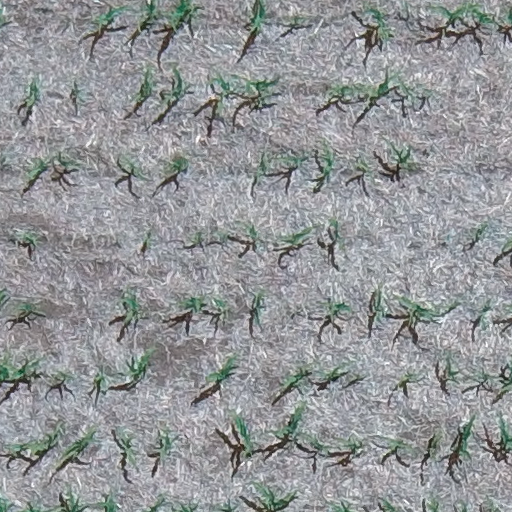planta: (5, 423, 64, 460), (52, 424, 97, 470), (204, 72, 241, 115), (393, 293, 441, 326), (270, 399, 307, 439), (160, 63, 188, 110), (228, 410, 255, 458), (364, 71, 400, 107), (123, 345, 157, 383), (241, 74, 278, 108), (203, 353, 239, 386), (132, 63, 157, 107), (279, 362, 313, 392), (118, 288, 144, 324), (457, 413, 477, 459), (279, 224, 316, 248), (322, 82, 359, 106), (315, 137, 336, 179), (387, 143, 417, 171), (9, 356, 42, 381), (161, 151, 190, 179), (23, 156, 50, 185), (380, 436, 414, 458), (302, 431, 332, 454), (118, 155, 145, 180), (175, 293, 207, 314), (327, 215, 346, 250), (21, 77, 41, 108), (317, 361, 348, 381), (119, 431, 137, 465), (371, 287, 388, 322), (321, 300, 353, 318), (156, 426, 174, 458), (51, 151, 81, 169), (12, 301, 41, 319), (252, 288, 266, 325), (336, 435, 364, 453), (396, 74, 415, 100), (211, 296, 230, 320), (254, 154, 271, 180), (274, 154, 306, 166), (395, 371, 417, 388), (242, 221, 260, 241), (18, 230, 40, 246), (91, 368, 107, 389), (49, 369, 73, 383), (353, 158, 372, 175), (478, 303, 491, 327), (444, 362, 459, 382), (472, 222, 489, 239), (429, 429, 444, 447), (189, 230, 203, 245), (475, 370, 493, 381), (443, 300, 459, 312), (141, 234, 152, 247), (216, 230, 229, 240), (428, 446, 437, 460)
